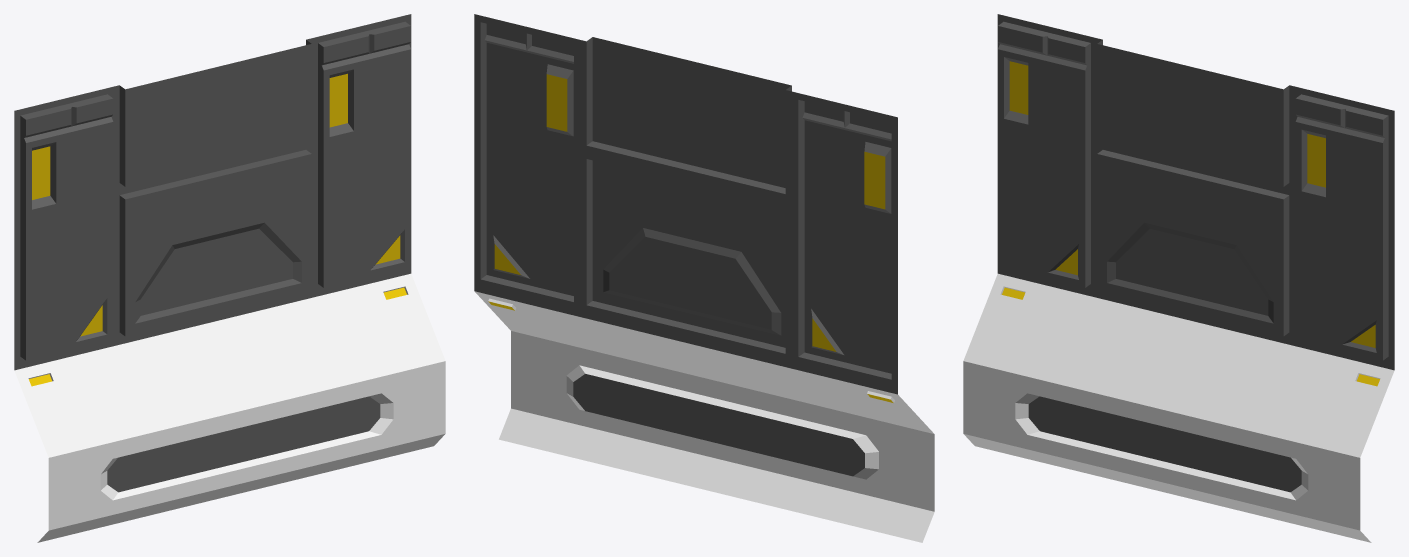
Rendered from SM_SM_Wall_01.fbx.
3 views of the same model, side by side, from view 1: azimuth 30°, elevation 25°; view 2: azimuth 150°, elevation 25°; view 3: azimuth 330°, elevation 25° (orthographic). The views are drawn at different scales.
Visible parts, largest first — view 1: SM_Wall_01; view 2: SM_Wall_01; view 3: SM_Wall_01.
Boxes of the visible parts, bbox=[...] form: SM_Wall_01: bbox=[14, 14, 445, 542]; SM_Wall_01: bbox=[474, 14, 934, 542]; SM_Wall_01: bbox=[963, 14, 1394, 542].
Bounding box in the file's own units: 200 × 200 × 30.
